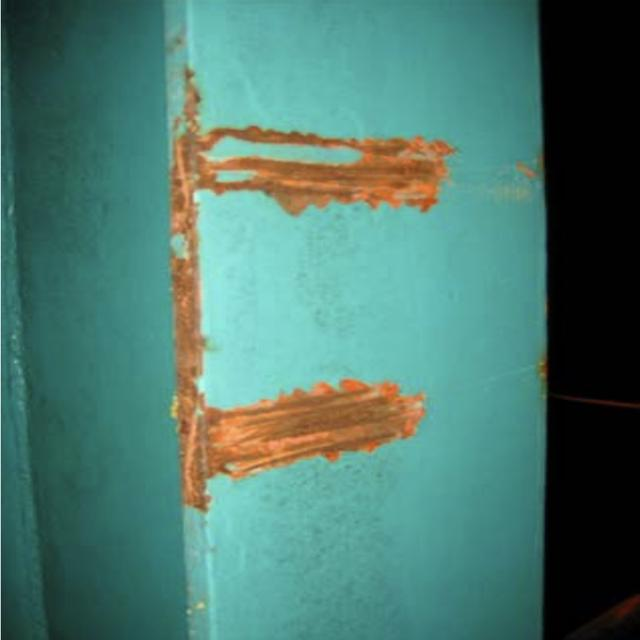corrosion: (167, 83, 432, 507)
